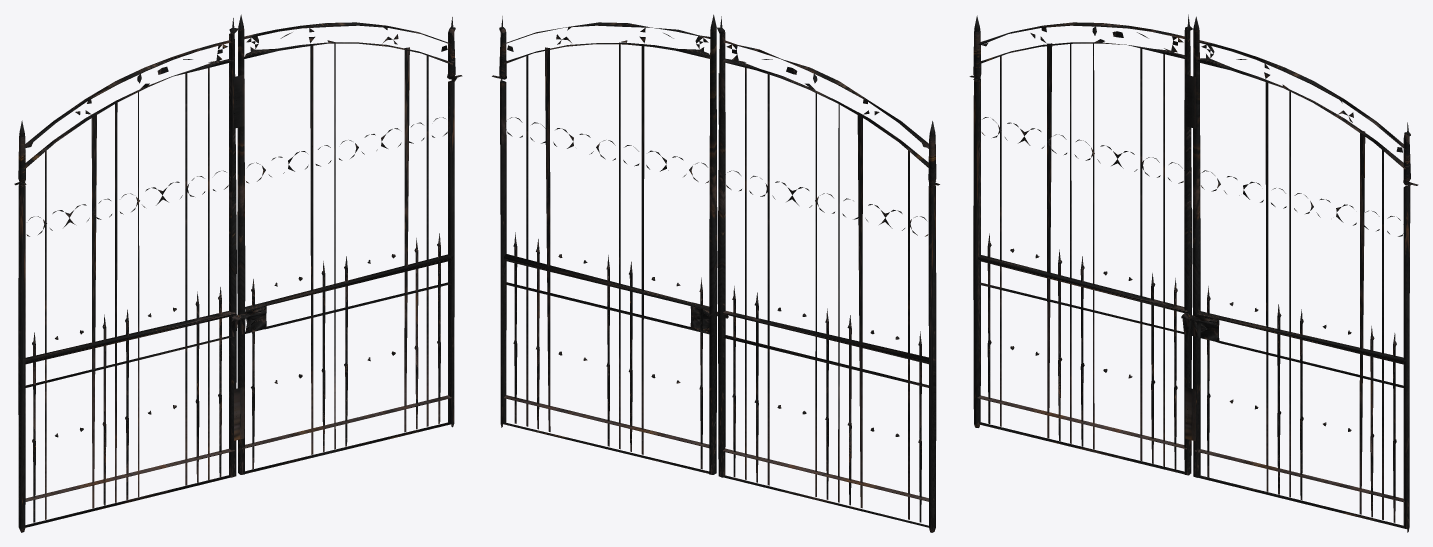
File: large_iron_gate.glb
The picture shows the model from 3 angles, left to right: view 1: azimuth 30°, elevation 25°; view 2: azimuth 150°, elevation 25°; view 3: azimuth 330°, elevation 25°; orthographic projection.
Visible parts, largest first — view 1: large_iron_gate; view 2: large_iron_gate; view 3: large_iron_gate.
Boxes of the visible parts, <box> form: large_iron_gate: <box>14,14,462,532</box>; large_iron_gate: <box>492,14,939,532</box>; large_iron_gate: <box>969,14,1418,532</box>.
Size of the model in its own units: 2.93 by 2.91 by 0.0593.
1 material, 1 textured.
